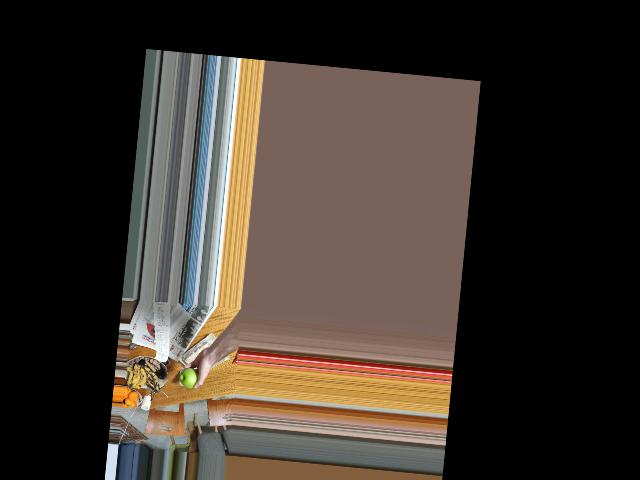apple: (179, 365, 201, 390)
